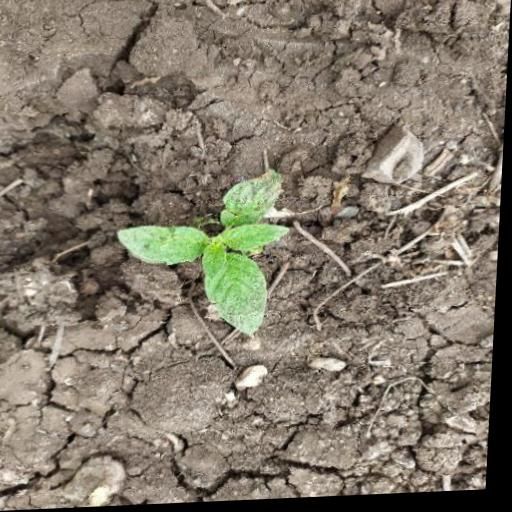crop: (116, 168, 297, 343)
